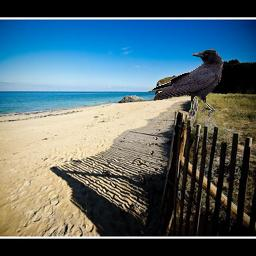Crow: (146, 49, 224, 116)
